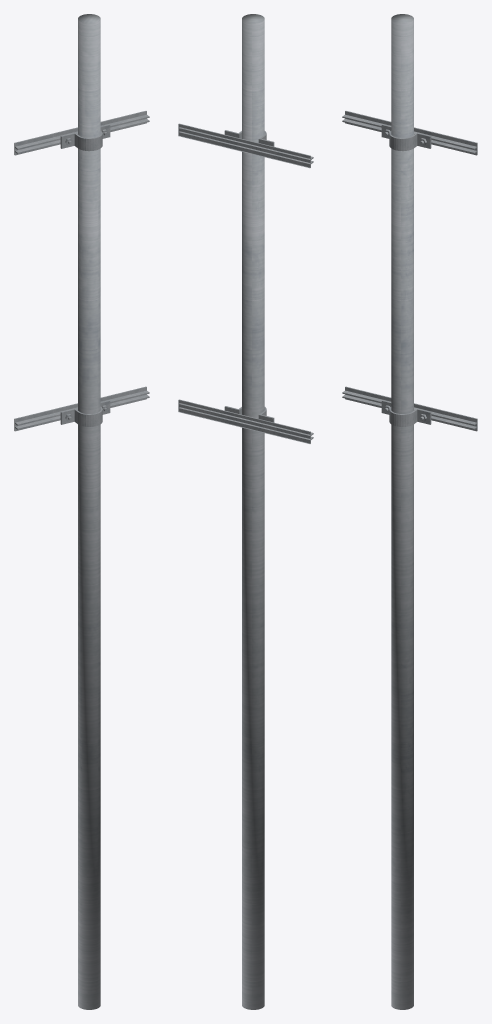
File: Pole_v6__Big_Signs_.fbx
The picture shows the model from 3 angles, left to right: view 1: azimuth 30°, elevation 25°; view 2: azimuth 150°, elevation 25°; view 3: azimuth 330°, elevation 25°; orthographic projection.
Visible parts, largest first — view 1: Pole v6 (Big Signs); view 2: Pole v6 (Big Signs); view 3: Pole v6 (Big Signs).
Part boxes in pixels (<box>): Pole v6 (Big Signs): <box>14,14,149,1009</box>; Pole v6 (Big Signs): <box>178,14,313,1009</box>; Pole v6 (Big Signs): <box>342,14,477,1009</box>.
Size of the model in its own units: 0.0826 by 0.4 by 2.86.
